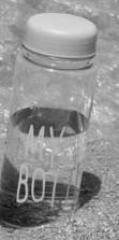glass: (0, 12, 98, 228)
